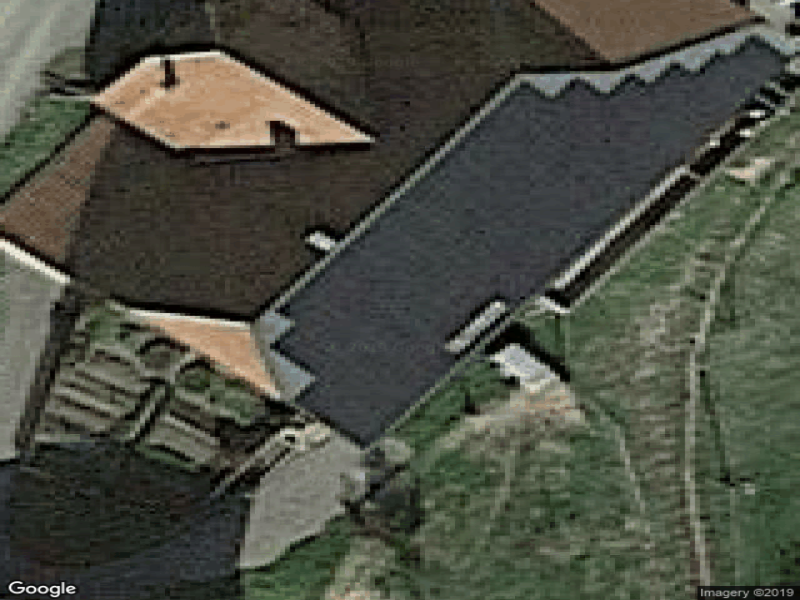pv: (270, 36, 789, 447)
